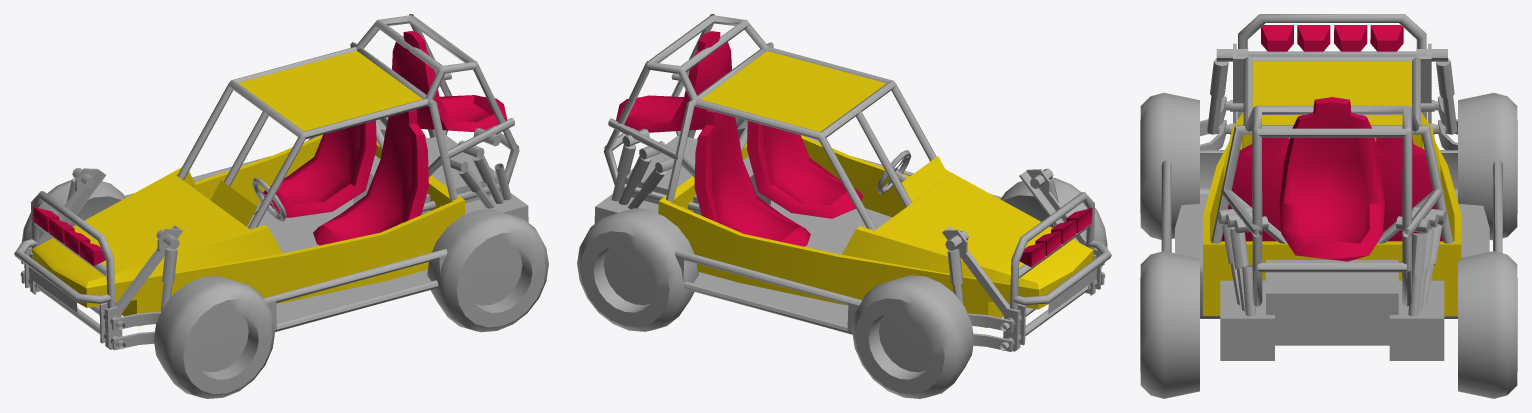
Rendered from car_buggy_2.fbx.
3 views of the same model, side by side, from view 1: azimuth 30°, elevation 25°; view 2: azimuth 150°, elevation 25°; view 3: azimuth 270°, elevation 25° (orthographic). The views are drawn at different scales.
Parts seen in each view (by area): view 1: polySurface2258; view 2: polySurface2258; view 3: polySurface2258.
Part boxes in pixels (left/top/right/bottom): polySurface2258: left=14, top=14, right=548, bottom=398; polySurface2258: left=577, top=14, right=1111, bottom=398; polySurface2258: left=1140, top=14, right=1517, bottom=398.
Bounding box in the file's own units: 327 × 167 × 197.
